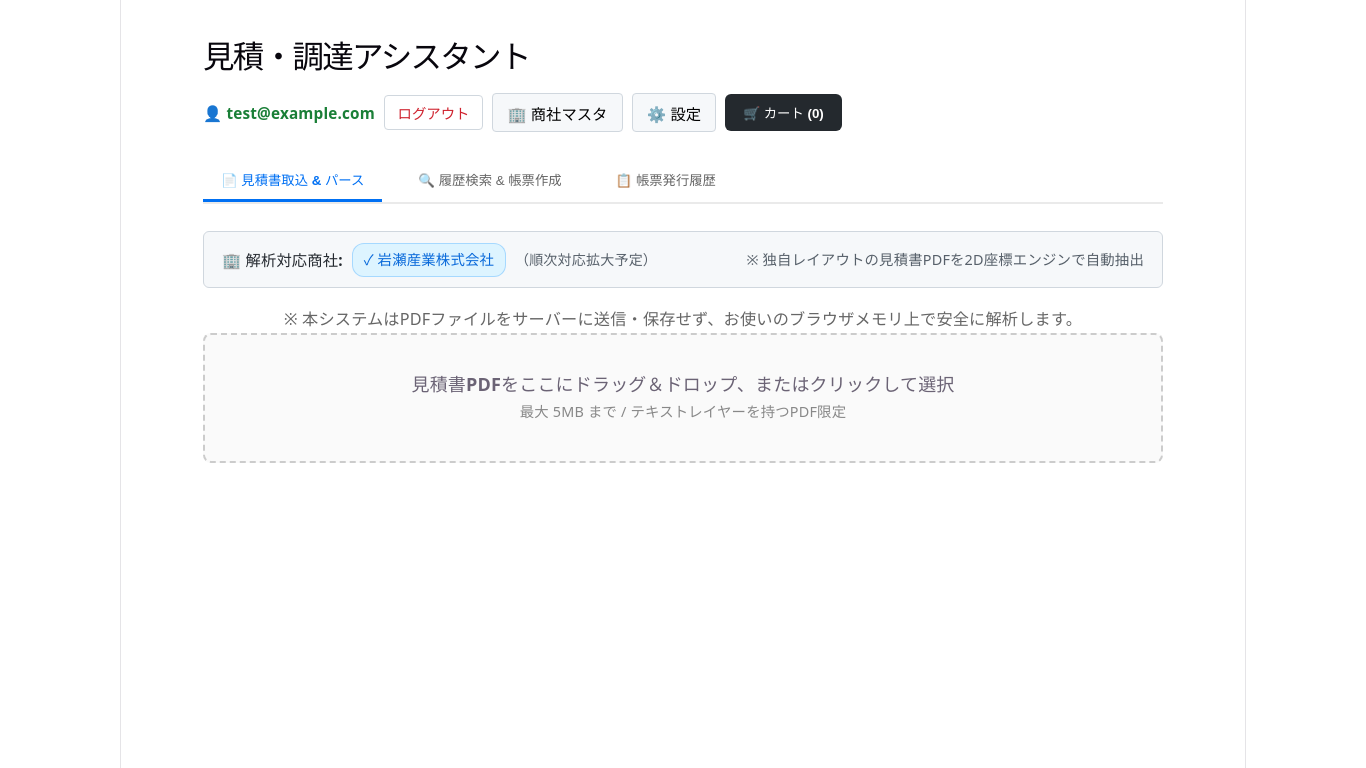
Test: Phase 9 カバレッジ補完テスト: App.tsx & ガードレール検証 › ログアウト・未ログイン時に操作ロックと警告バナーが表示されること
This screenshot has width=1366, height=768.
Expected: the text "👤 test@example.com" is shown, [203, 100, 375, 126]
//  ログアウト実行
Click the button "ログアウト". click: (434, 113)
box: [384, 95, 483, 130]
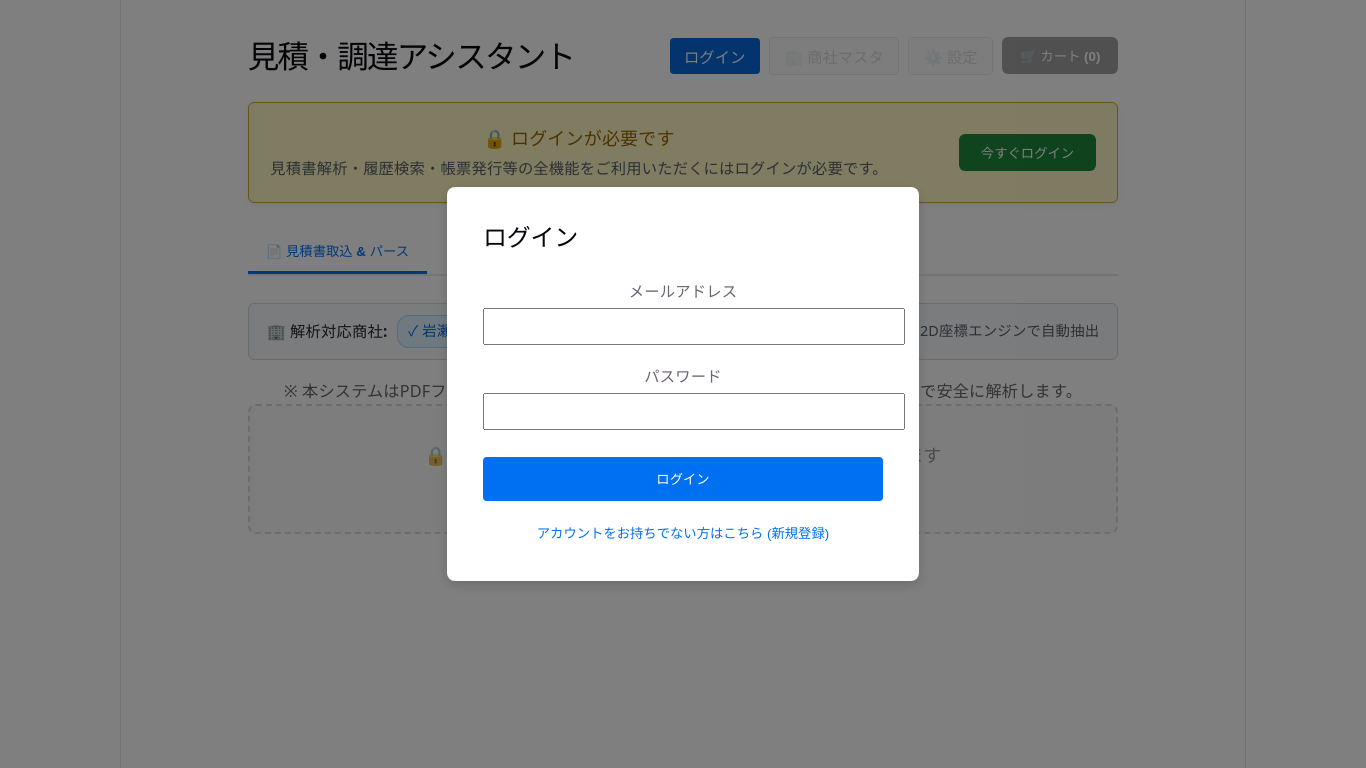
Expected: the text "🔒 ログインが必要です" is shown, [484, 126, 675, 150]
Expected: the text "🔒 ログイン後に見積書PDFの取込・解析が利用可能になります" is shown, [424, 443, 942, 467]
